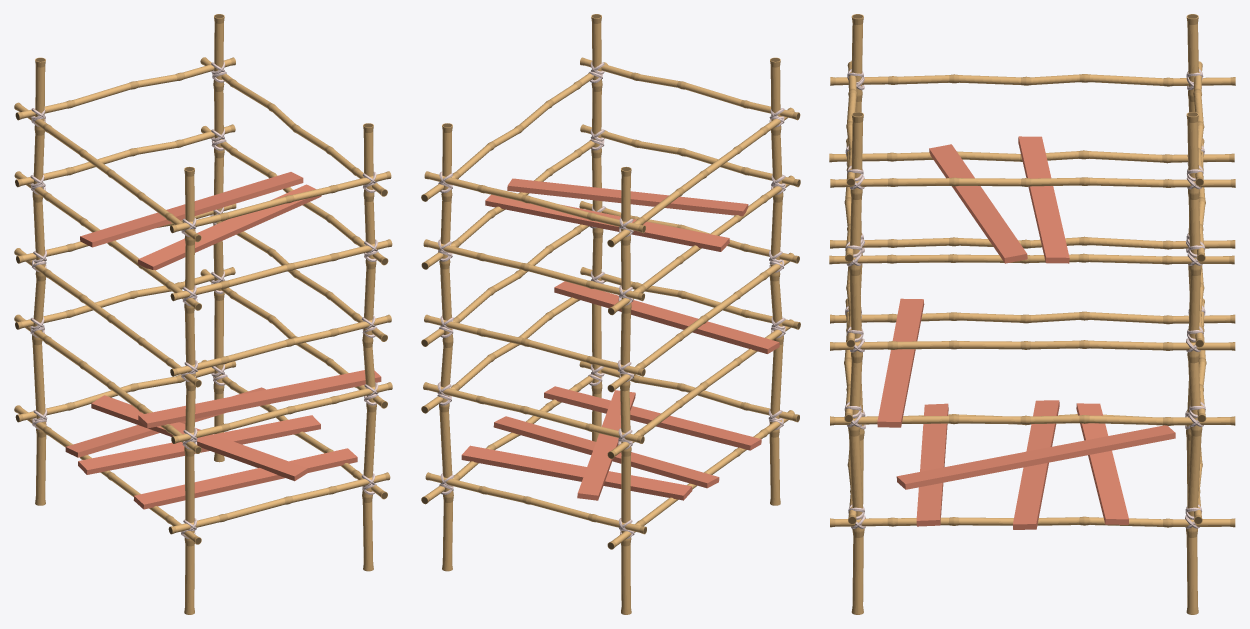
The model's file is Scaffolding_Slats.fbx.
The picture shows the model from 3 angles, left to right: view 1: azimuth 30°, elevation 25°; view 2: azimuth 150°, elevation 25°; view 3: azimuth 270°, elevation 25°; orthographic projection. The views are drawn at different scales.
Visible parts, largest first — view 1: Cylinder.012, Cylinder.000, Torus.021, Cube.006, Cube, Cube.007, Cube.003, Cube.005, Cube.008, Cube.004; view 2: Cylinder.012, Torus.021, Cylinder.000, Cube.004, Cube.006, Cube.008, Cube, Cube.007, Cube.003, Cube.005; view 3: Torus.021, Cylinder.000, Cylinder.012, Cube.005, Cube.008, Cube.007, Cube.006, Cube, Cube.004, Cube.003.
Part boxes in pixels (left/top/right/bottom): Cylinder.012: left=15, top=57, right=392, bottom=534; Cylinder.000: left=32, top=14, right=376, bottom=614; Torus.021: left=14, top=57, right=388, bottom=544; Cube.006: left=138, top=370, right=381, bottom=428; Cube: left=78, top=415, right=320, bottom=474; Cube.007: left=80, top=172, right=303, bottom=247; Cube.003: left=133, top=448, right=357, bottom=509; Cube.005: left=91, top=395, right=307, bottom=481; Cube.008: left=138, top=184, right=321, bottom=270; Cube.004: left=65, top=387, right=265, bottom=457; Cylinder.012: left=423, top=57, right=800, bottom=534; Torus.021: left=421, top=62, right=794, bottom=549; Cylinder.000: left=439, top=14, right=783, bottom=614; Cube.004: left=461, top=445, right=692, bottom=500; Cube.006: left=554, top=281, right=779, bottom=353; Cube.008: left=507, top=178, right=748, bottom=216; Cube: left=493, top=416, right=719, bottom=488; Cube.007: left=485, top=194, right=729, bottom=251; Cube.003: left=544, top=386, right=761, bottom=450; Cube.005: left=577, top=390, right=635, bottom=500; Torus.021: left=829, top=74, right=1235, bottom=528; Cylinder.000: left=848, top=14, right=1202, bottom=614; Cylinder.012: left=844, top=61, right=1206, bottom=524; Cube.005: left=896, top=425, right=1175, bottom=489; Cube.008: left=929, top=144, right=1027, bottom=263; Cube.007: left=1018, top=136, right=1069, bottom=263; Cube.006: left=877, top=298, right=924, bottom=427; Cube: left=1013, top=400, right=1059, bottom=529; Cube.004: left=1076, top=403, right=1128, bottom=524; Cube.003: left=916, top=403, right=948, bottom=526.
Size of the model in its own units: 504 by 931 by 688.
